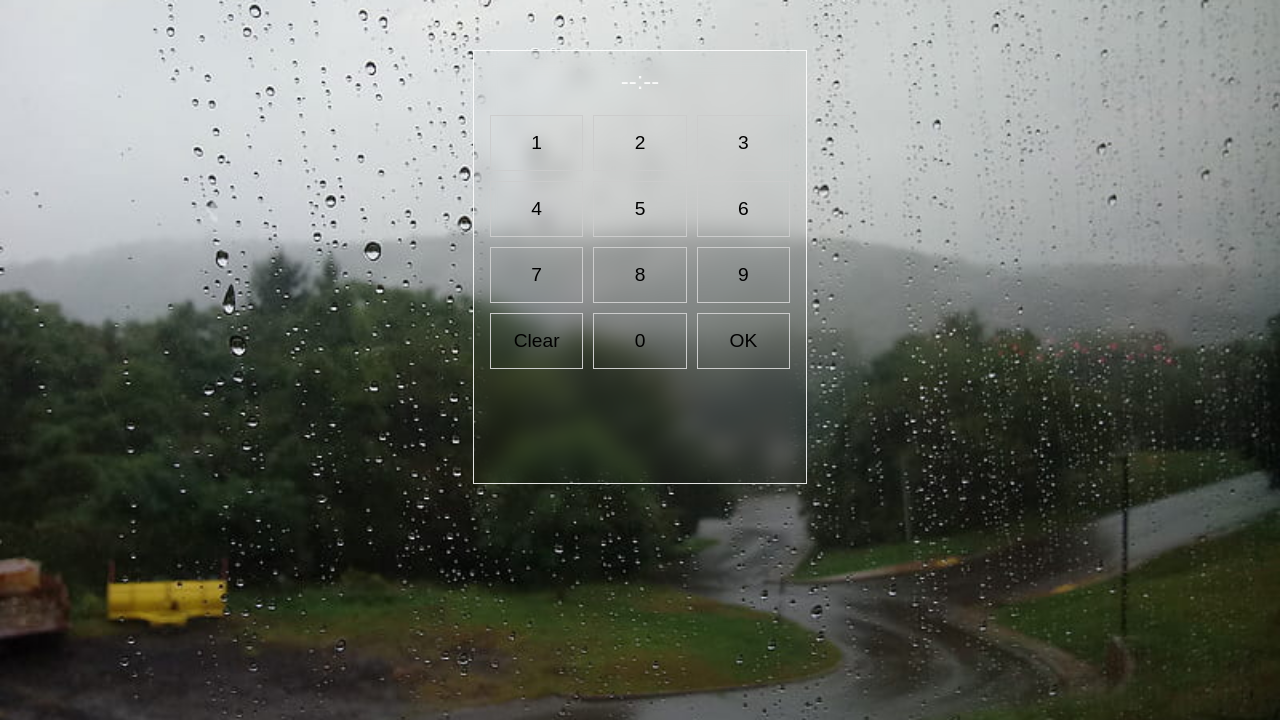
Alarm › toggles alarm OFF after being ON
Click the button "1": click(537, 143) [490,115,583,171]
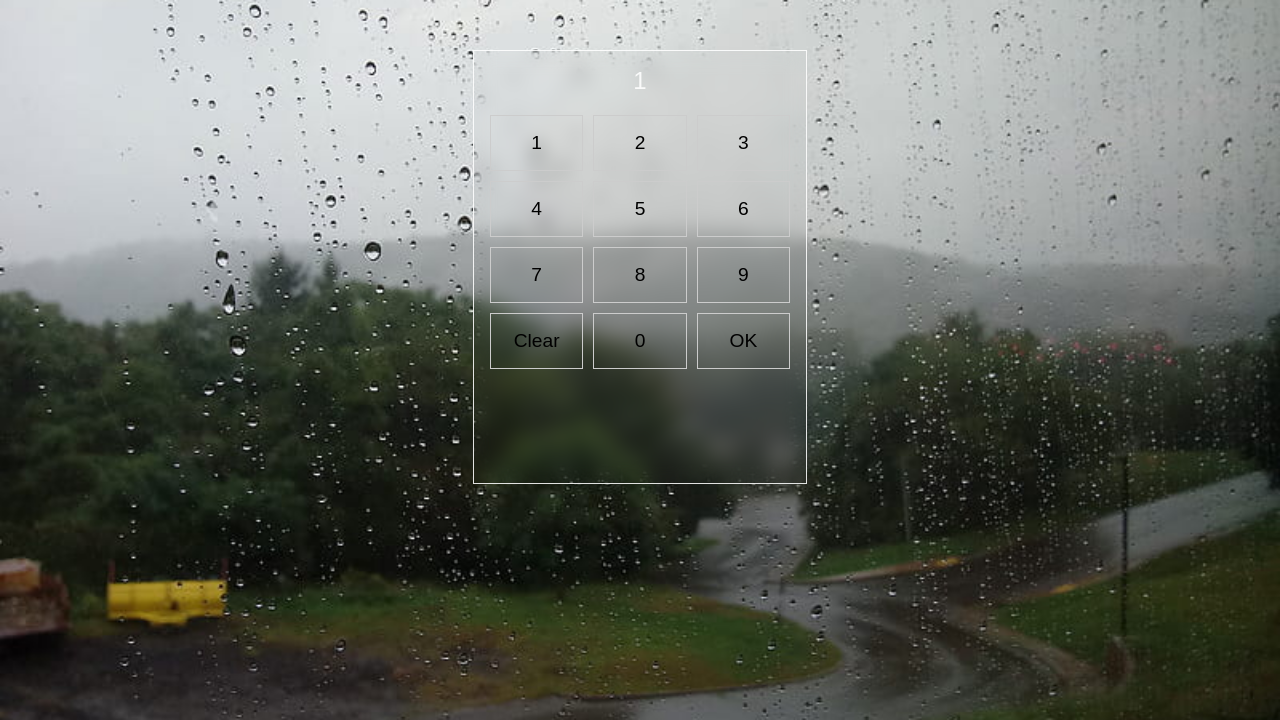
Click the button "2": click(640, 143) [593,115,687,171]
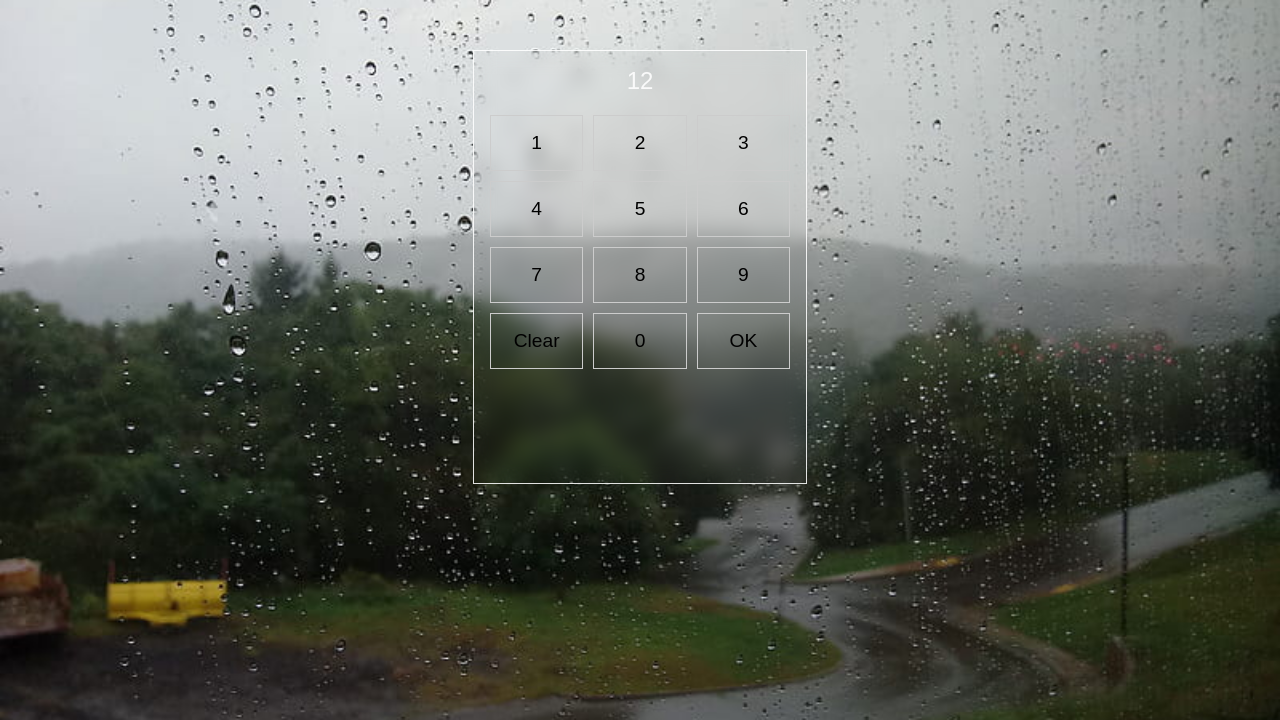
Click the button "3": click(743, 143) [697,115,790,171]
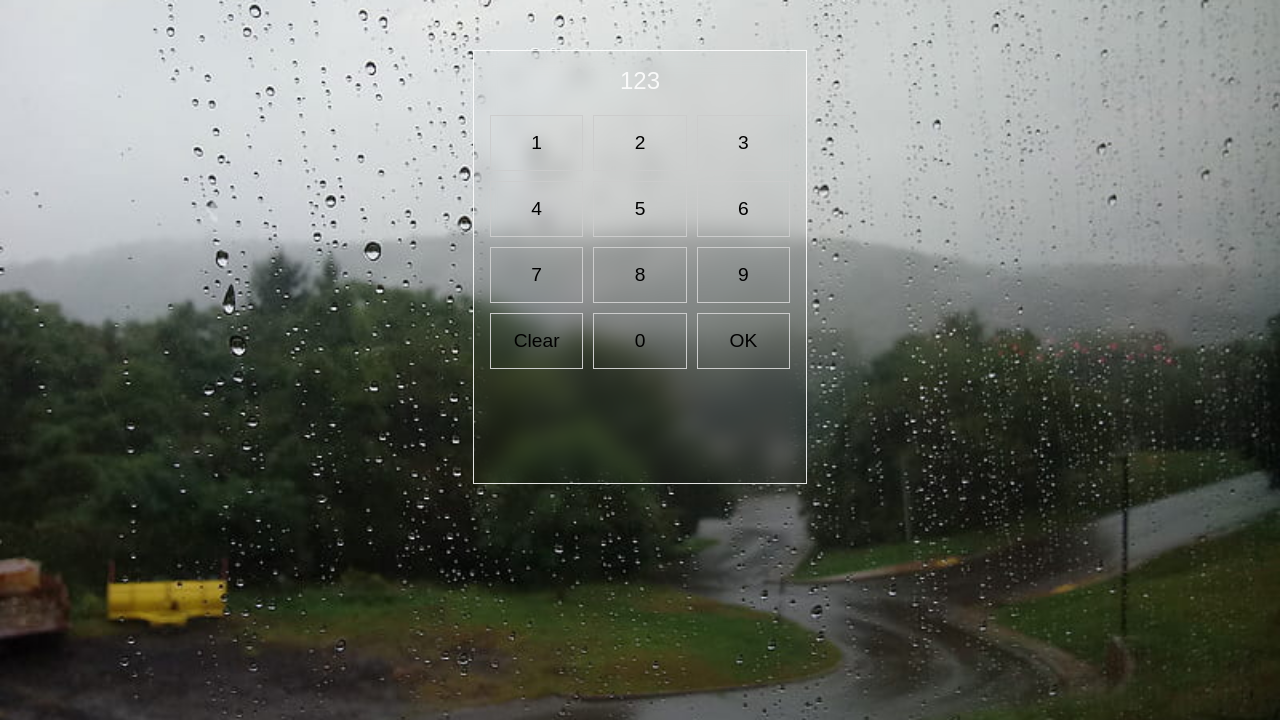
Click the button "4": click(537, 209) [490,181,583,237]
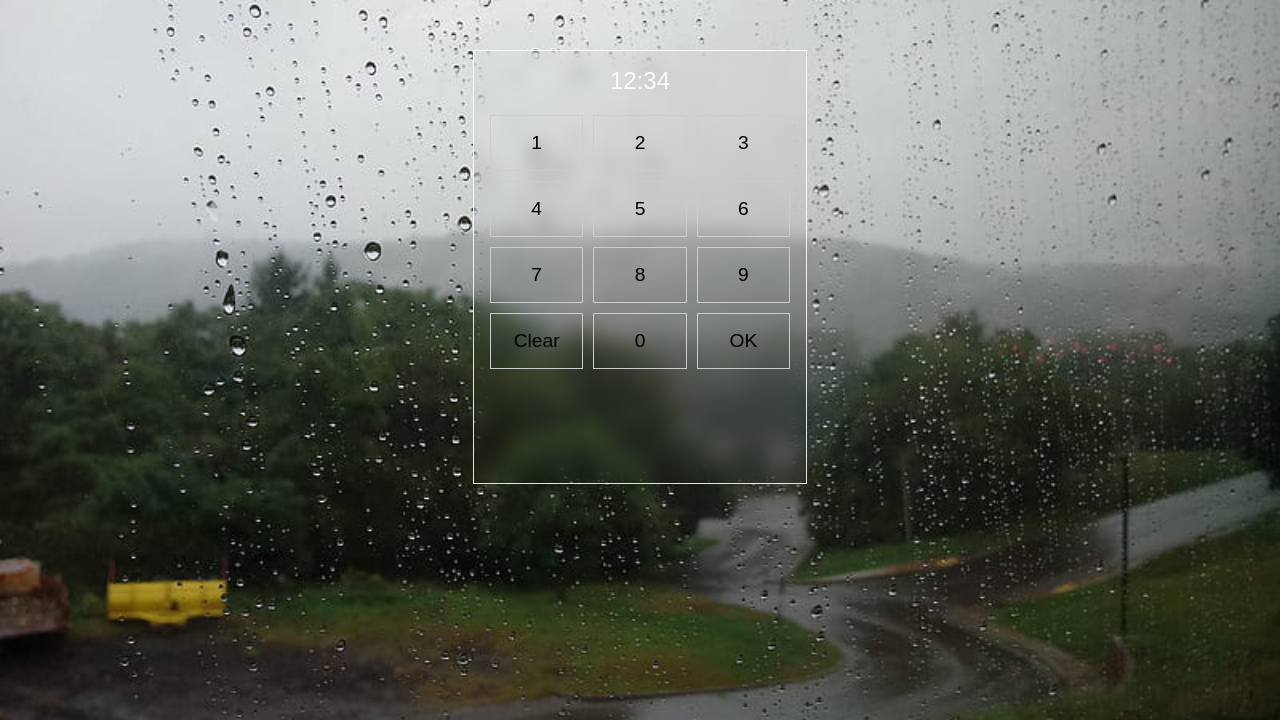
Click the button "OK": click(743, 341) [697,313,790,369]
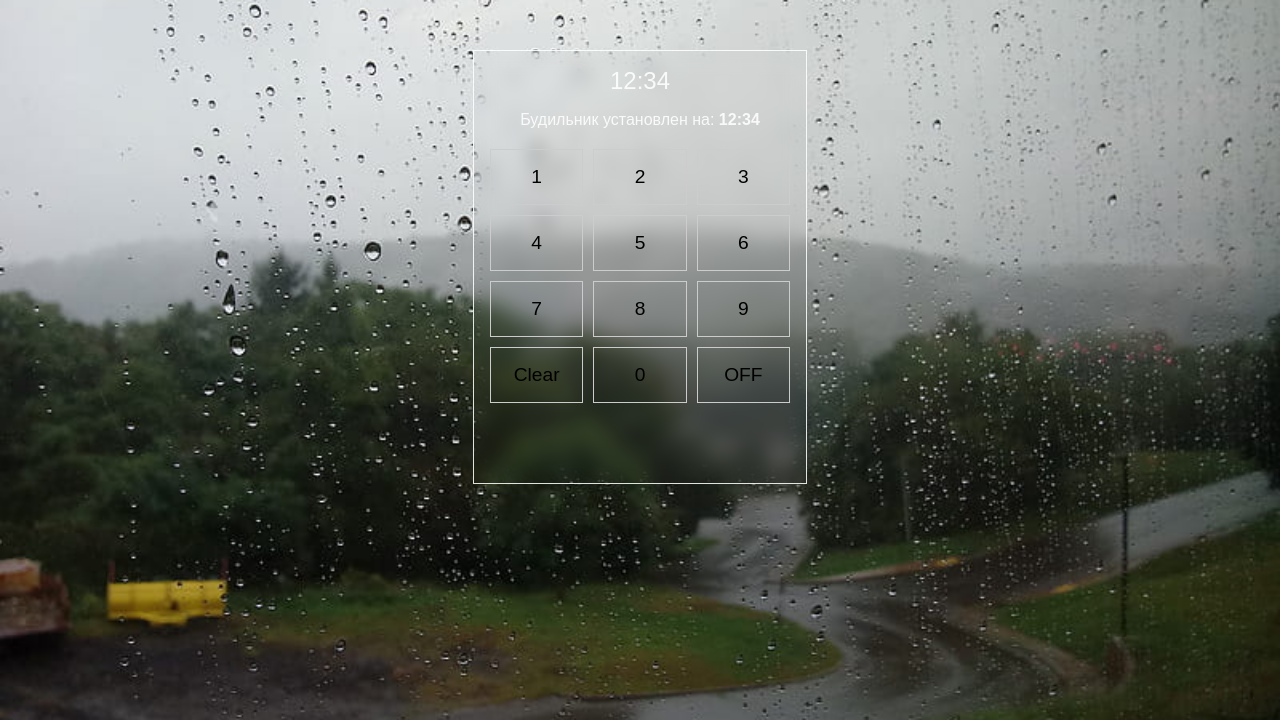
expect the text "Будильник установлен на: 12:34" is shown: met, box [520,111,760,128]
Click the button "OFF": click(743, 375) [697,347,790,403]
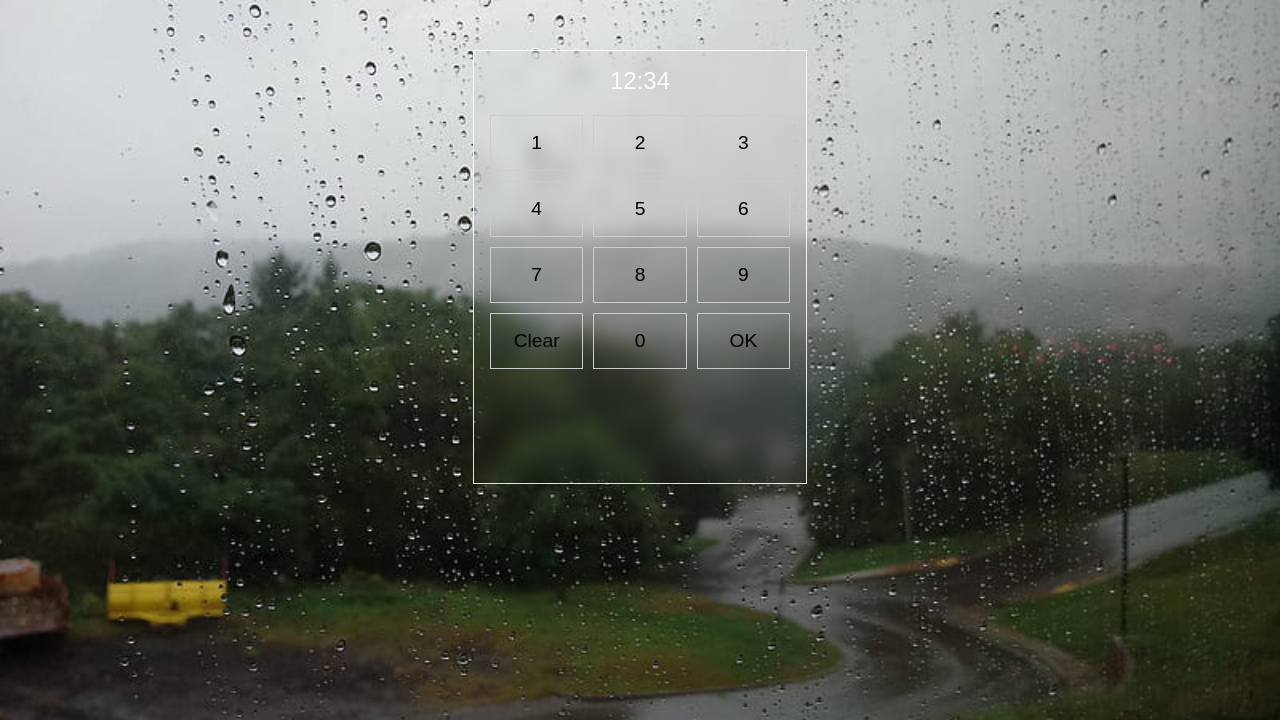
expect the text "Будильник установлен на:" is gone: met
